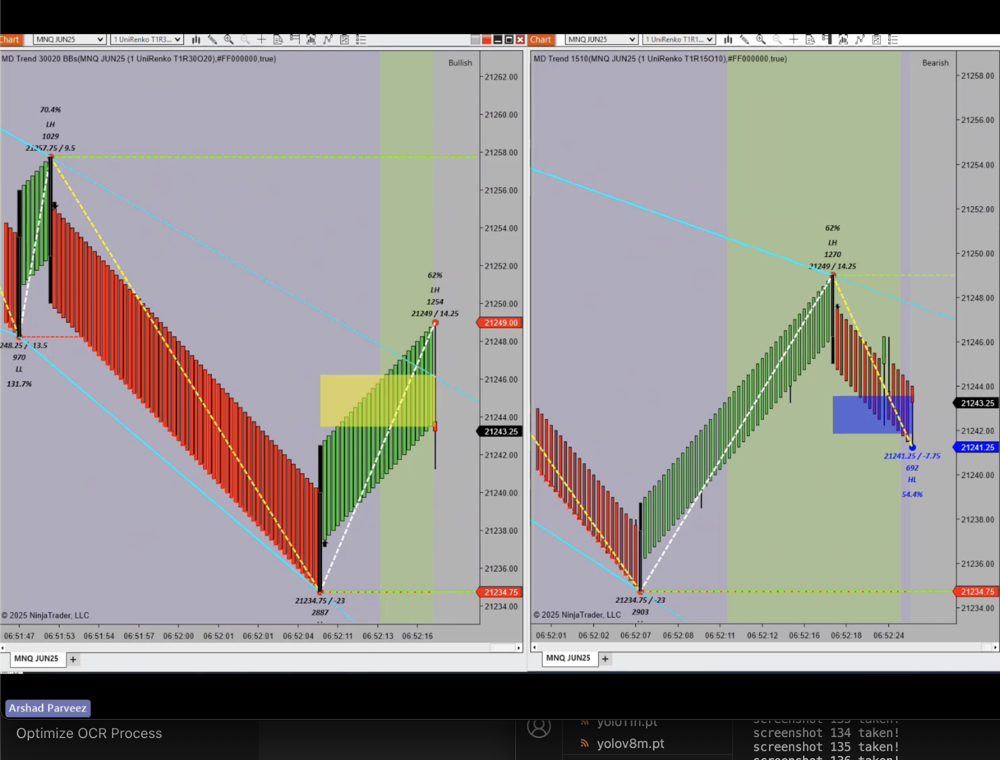HL: (902, 469, 926, 489)
LH: (424, 280, 450, 300), (40, 115, 62, 135), (824, 233, 843, 252)
LL: (8, 359, 31, 380)
